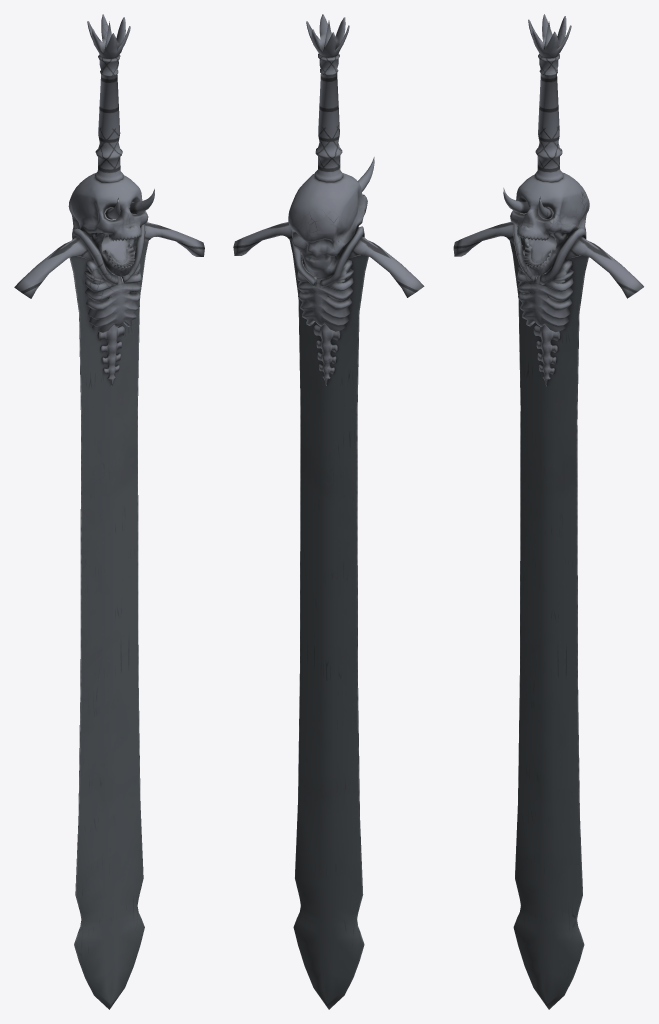
The model's file is rebellion-hd.glb.
3 renders of one model, left to right at view 1: azimuth 30°, elevation 25°; view 2: azimuth 150°, elevation 25°; view 3: azimuth 330°, elevation 25°, orthographic.
Visible parts, largest first — view 1: rebellion_blade, rebellion_skull, rebellion_ribs, rebellion_grip, rebellion_guard, rebellion_pommel; view 2: rebellion_blade, rebellion_skull, rebellion_ribs, rebellion_grip, rebellion_guard, rebellion_pommel; view 3: rebellion_blade, rebellion_skull, rebellion_ribs, rebellion_grip, rebellion_guard, rebellion_pommel.
Part boxes in pixels (<box>): rebellion_blade: <box>69,238,148,1009</box>; rebellion_skull: <box>68,173,154,276</box>; rebellion_ribs: <box>72,224,145,386</box>; rebellion_grip: <box>94,54,123,182</box>; rebellion_guard: <box>14,222,204,298</box>; rebellion_pommel: <box>87,14,130,58</box>; rebellion_blade: <box>289,240,368,1009</box>; rebellion_skull: <box>288,157,374,278</box>; rebellion_ribs: <box>291,226,364,385</box>; rebellion_grip: <box>314,53,343,182</box>; rebellion_guard: <box>233,222,424,297</box>; rebellion_pommel: <box>306,14,349,57</box>; rebellion_blade: <box>509,238,588,1009</box>; rebellion_skull: <box>503,172,589,275</box>; rebellion_ribs: <box>513,223,586,386</box>; rebellion_grip: <box>534,53,563,182</box>; rebellion_guard: <box>453,221,643,298</box>; rebellion_pommel: <box>528,14,571,58</box>.
Size of the model in its own units: 0.3481 by 1.75 by 0.1584.
2 materials, 2 textured.
